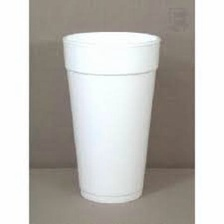paper_cup: (56, 26, 163, 207)
